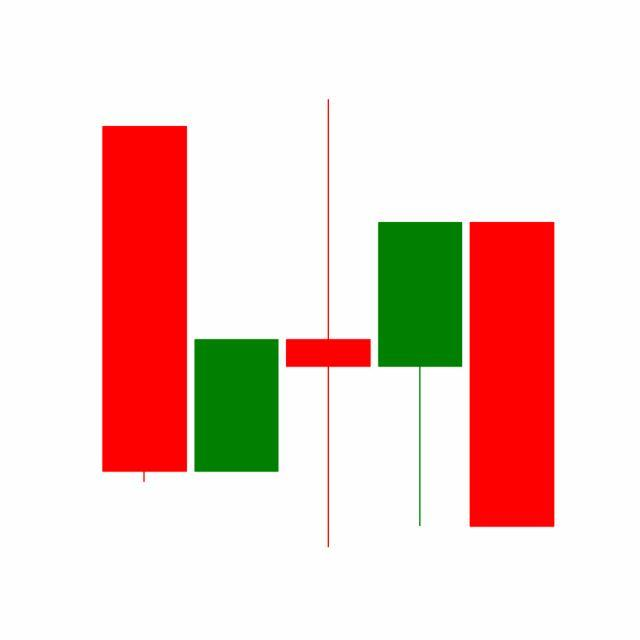Marubozu: (466, 219, 559, 530)
